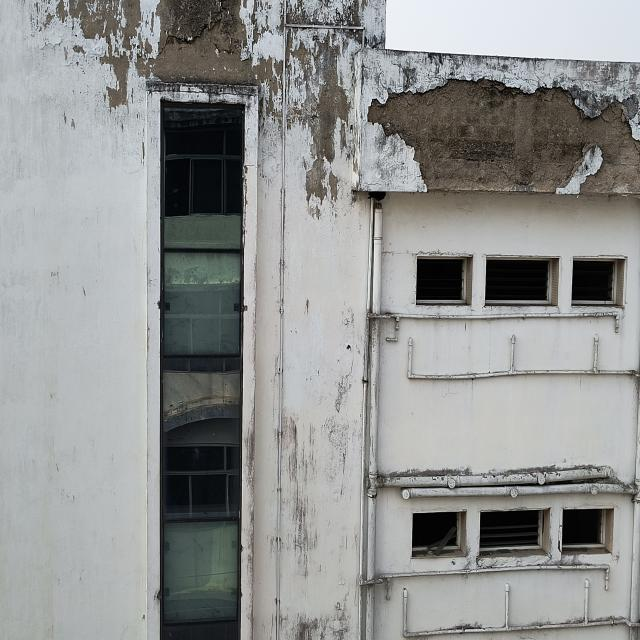peeling: (37, 0, 640, 191)
stain_mould: (284, 25, 362, 290), (361, 454, 640, 525)
